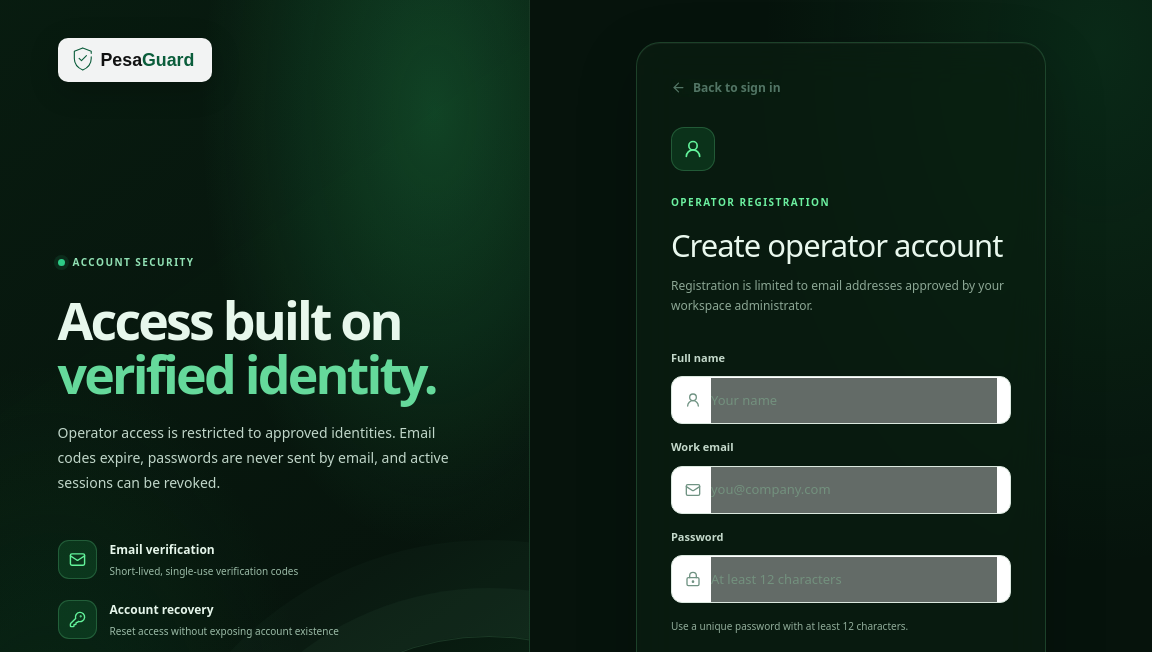
Test case: shows an actionable error when signup OTP delivery fails
Type "Test Operator" into the field labelled "Full name" at {"x": 854, "y": 400}, box 711,378 -> 997,423
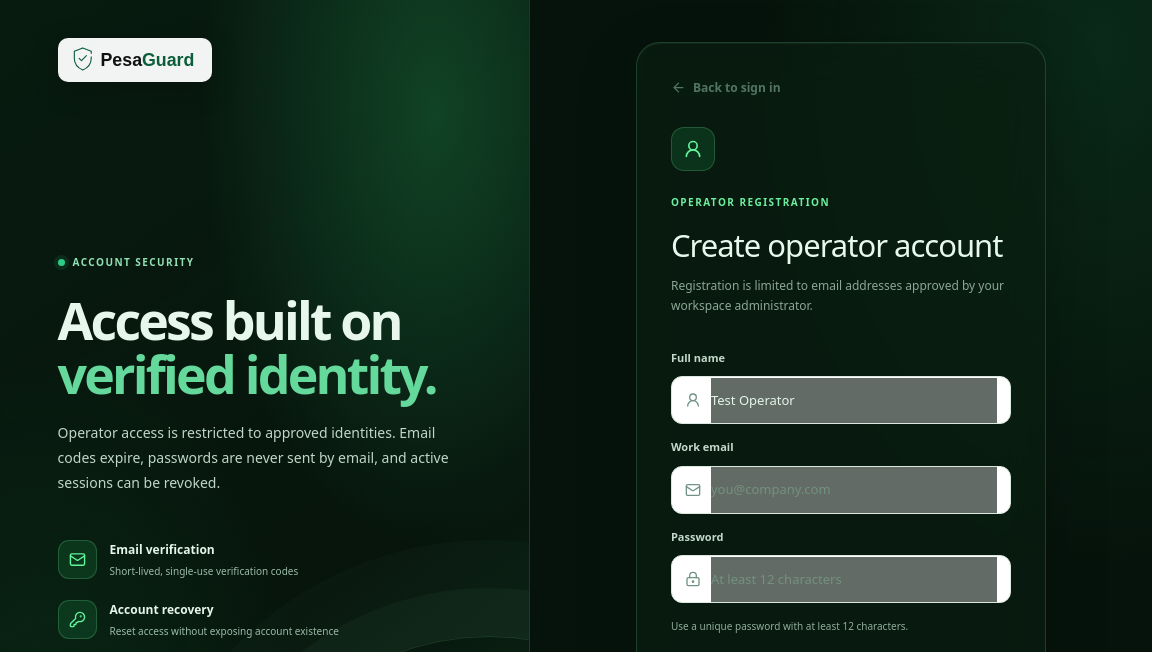
Type "operator@example.com" into the field labelled "Work email" at {"x": 854, "y": 490}, box 711,467 -> 997,512
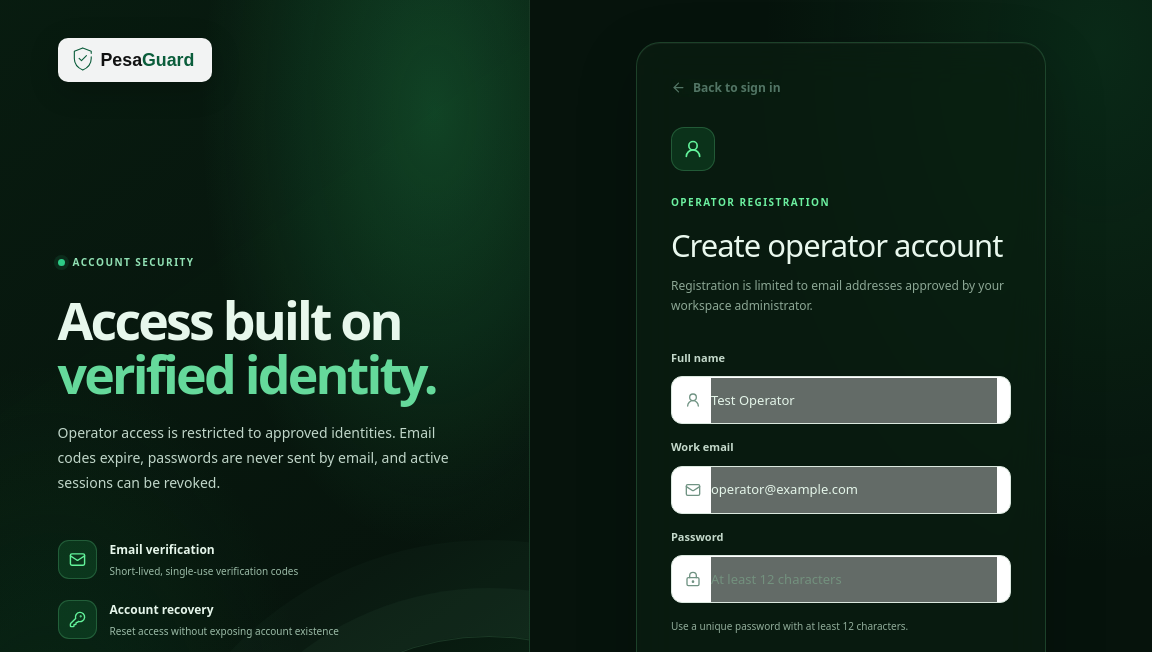
Type "unique-password-2026" into the password field labelled "Password" at {"x": 854, "y": 579}, box 711,556 -> 997,602
(page scrolled)
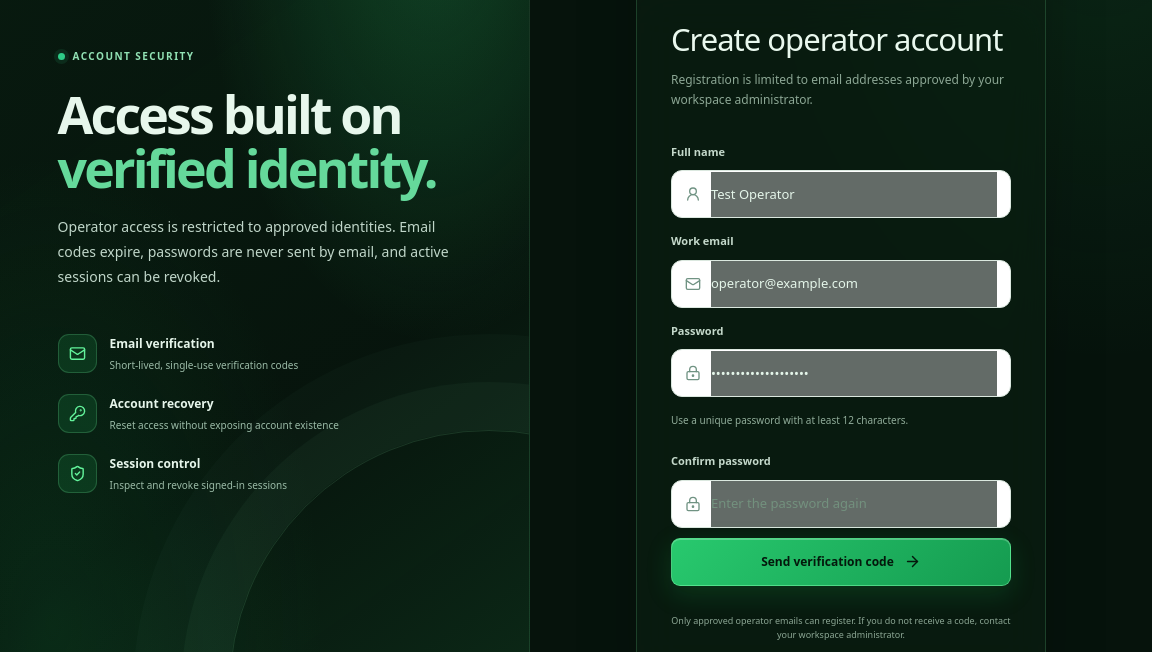
Type "unique-password-2026" into the password field labelled "Confirm password" at {"x": 854, "y": 504}, box 711,481 -> 997,526
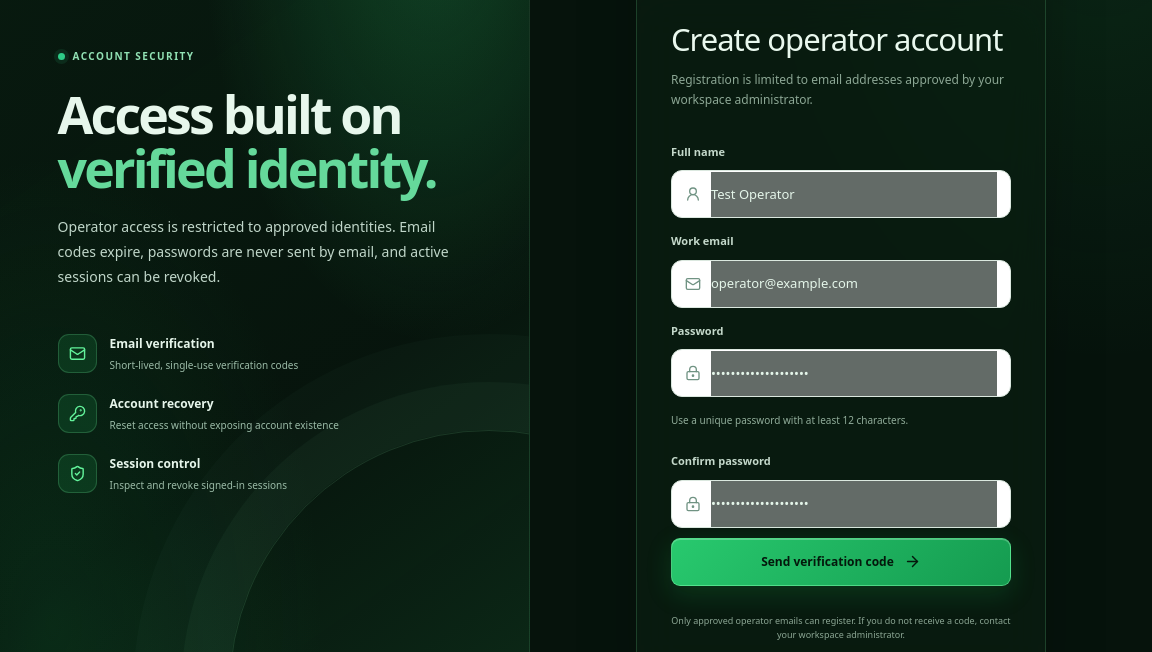
Click the button "Send verification code" at {"x": 841, "y": 562}, box 671,538 -> 1011,586
(page scrolled)
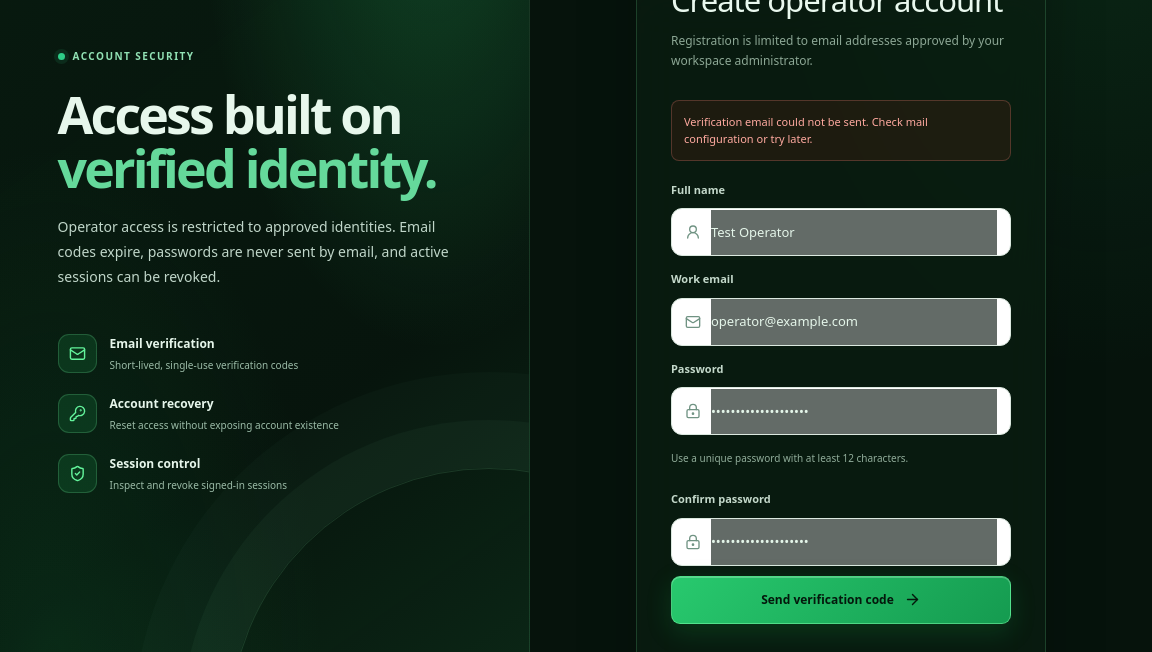
Now the message shows "Verification email could not be sent", box 684,114 -> 928,146
